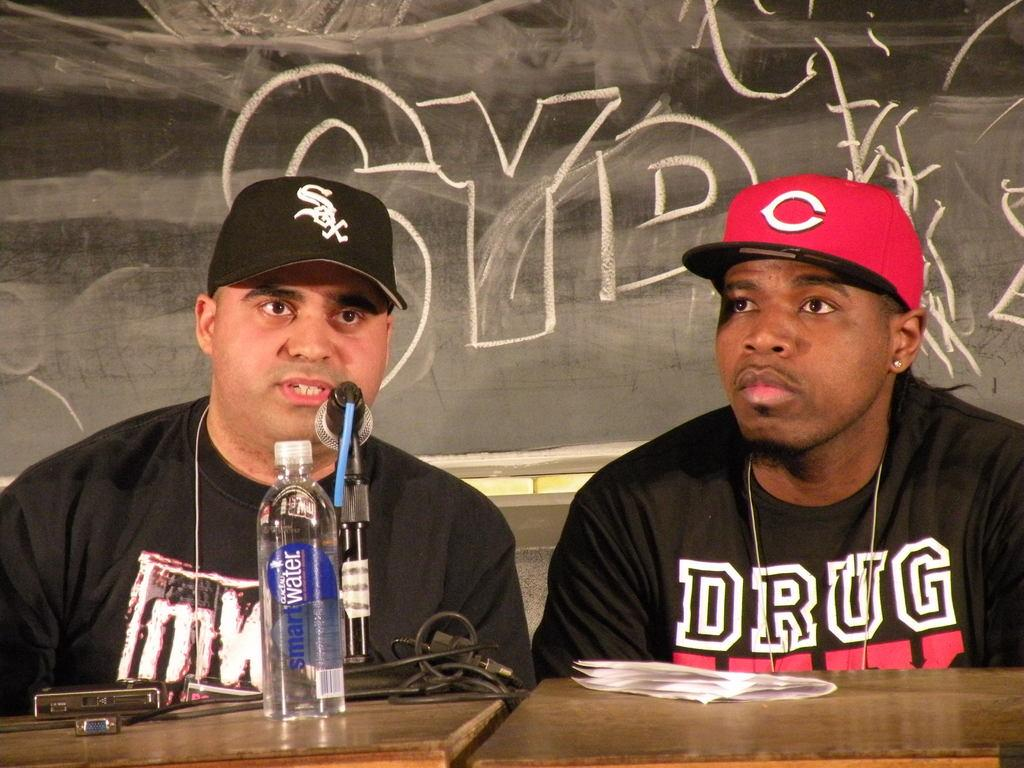Hat: (684, 171, 922, 309), (208, 176, 408, 312)
